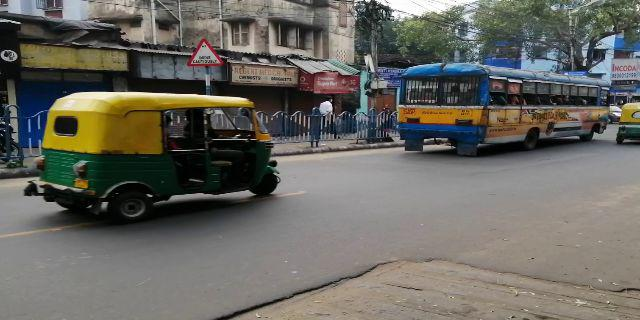Autorickshaw: (50, 96, 282, 220)
Bus: (397, 69, 611, 151)
